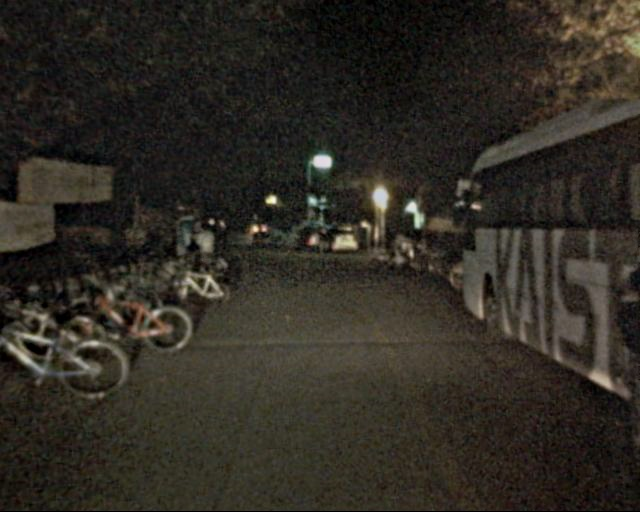person: (187, 216, 216, 286), (313, 227, 327, 261), (296, 228, 310, 261)
